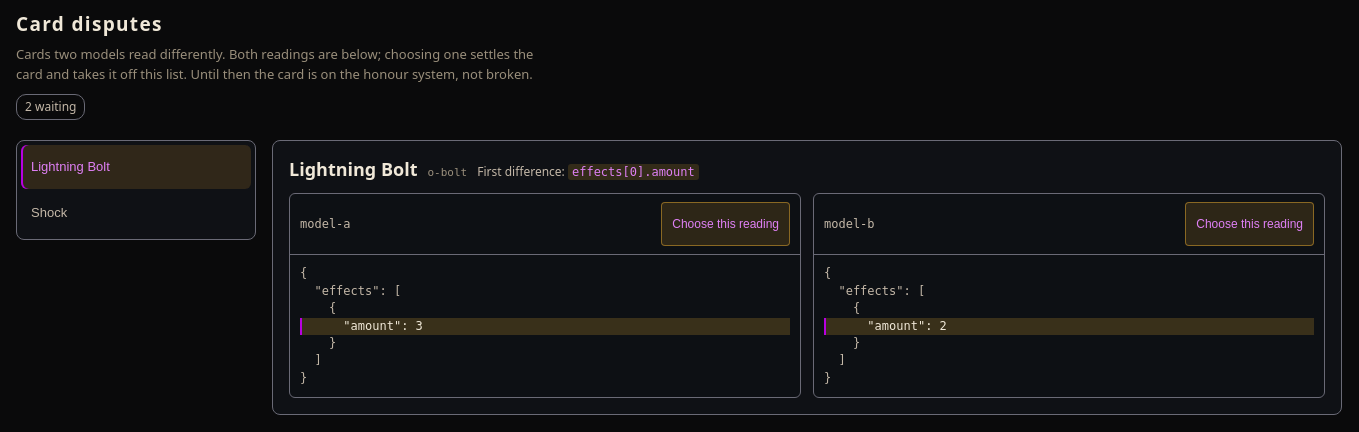
CardDisputesComponent › opens on the first card and swaps to the one picked
Expected: the heading with class "cd-card-name" reads "Lightning Bolt", [289, 157, 418, 181]
What coordinates should you click on to do the following:
click the button with class "cd-pick" showing "Shock"
I would click on:
 (136, 213)
Its box is [21, 191, 251, 235].
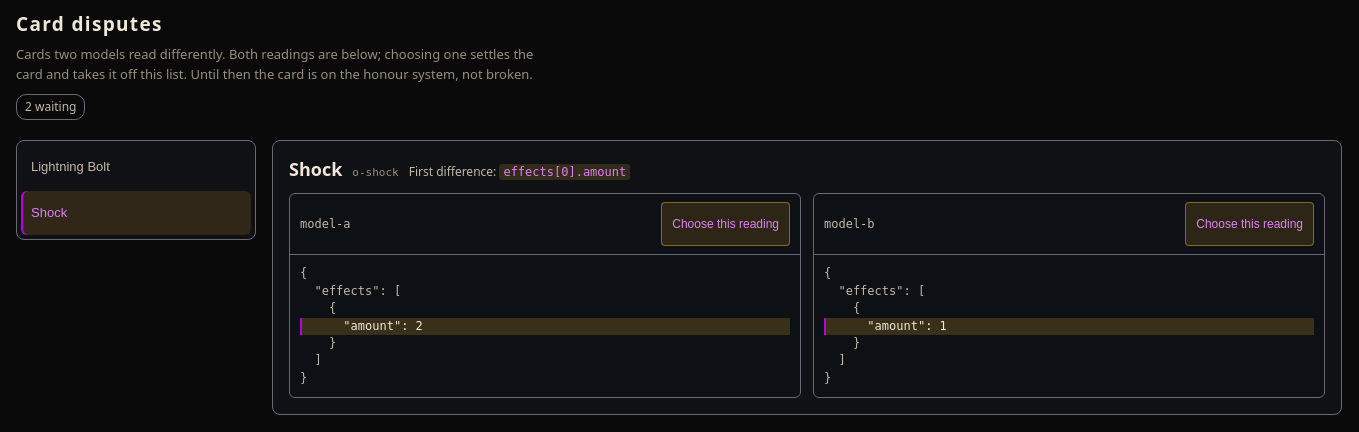
Expected: the number of buttons with class "is-selected" is 1, [21, 191, 251, 235]
Result: the text "o-shock" is shown at [352, 164, 399, 181]
Result: the heading with class "cd-card-name" reads "Shock" at [289, 157, 342, 181]
